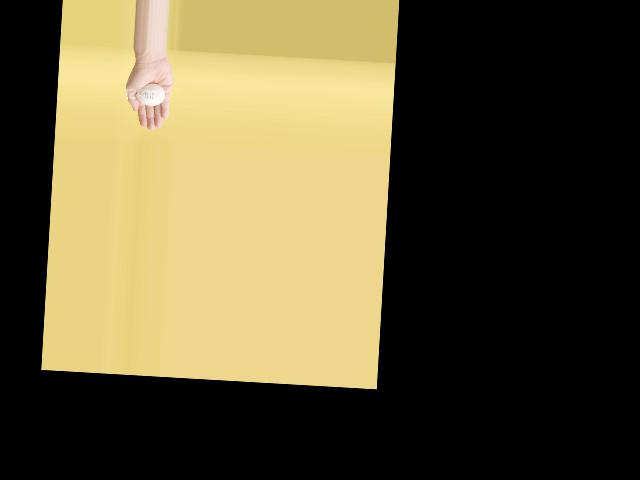egg: (136, 83, 165, 106)
